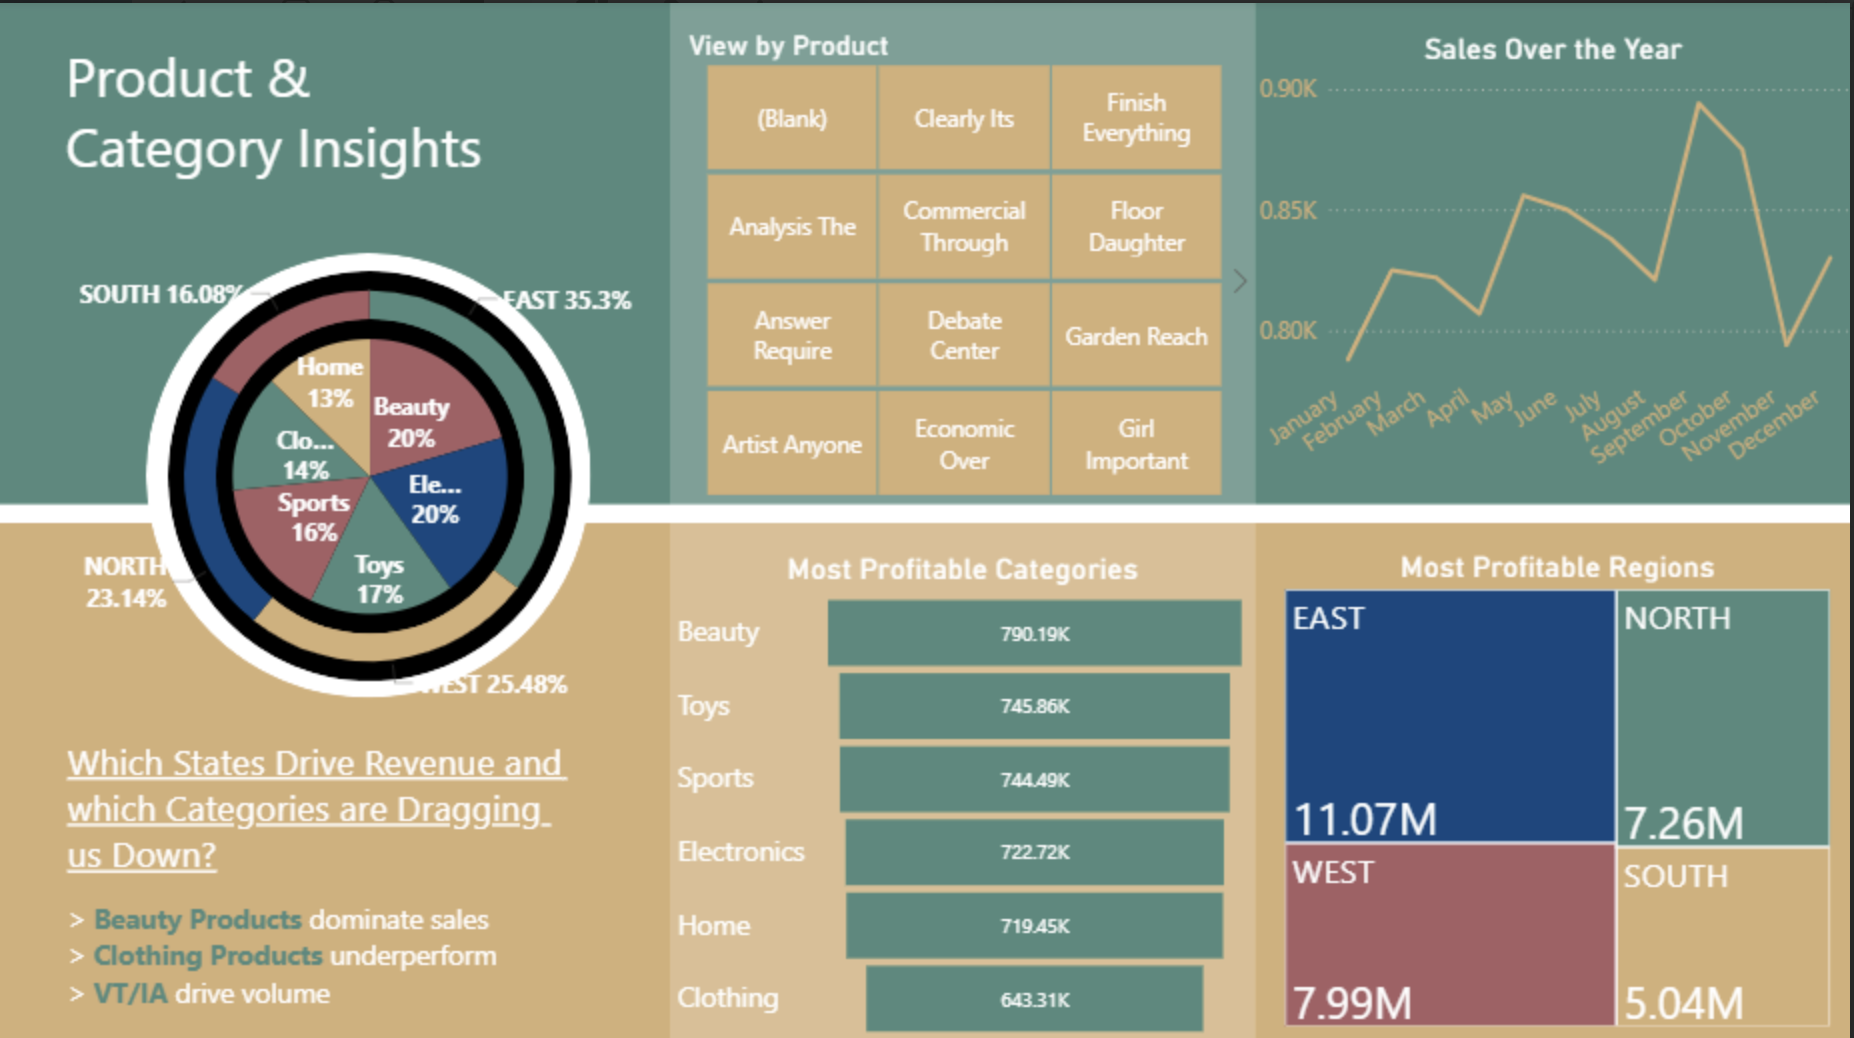

The page's visual inventory and layout, read from the dashboard file:
{"tool":"powerbi","page":{"name":"Page 1","canvas":[1280,720],"ordinal":0},"visuals":[{"type":"shape","box":[0,0,1280,347.7],"z":0},{"type":"shape","box":[0,360,1280.2,360],"z":1000},{"type":"shape","box":[103.1,174.8,306.2,306.2],"z":2000},{"type":"textbox","box":[43.3,21.7,300,156.7],"z":3000},{"type":"textbox","box":[43.7,502.3,354.4,218.4],"z":5000},{"type":"lineChart","title":"Sales Over the Year","fields":{"Category":["orders_silver.order_date.Variation.Date Hierarchy.Year","orders_silver.order_date.Variation.Date Hierarchy.Quarter","orders_silver.order_date.Variation.Date Hierarchy.Month","orders_silver.order_date.Variation.Date Hierarchy.Day"],"Y":["CountNonNull(orders_silver.order_id)"]},"box":[865,21.7,415,323.3],"z":6000},{"type":"funnel","title":"Most Profitable Categories","fields":{"Category":["Ranked_Products_.category"],"Y":["Sum(Ranked_Products_.total_sales)"]},"box":[463.3,360,403.3,360],"z":8000},{"type":"shape","box":[118,186.7,277.8,282.3],"z":8500},{"type":"treemap","title":"Most Profitable Regions","fields":{"Group":["Revenue/ Region.region"],"Values":["Sum(Revenue/ Region.total_revenue)"]},"box":[881.7,378.3,385,333.3],"z":9000},{"type":"slicer","fields":{"Values":["Ranked_Products_.product_name"]},"box":[463.3,0,403.3,348.3],"z":11000},{"type":"donutChart","fields":{"Category":["Revenue/ Region.region"],"Y":["Sum(Revenue/ Region.total_revenue)"]},"box":[50.8,118,412.3,419.8],"z":12500},{"type":"shape","box":[150.9,219.6,212.1,216.6],"z":13000},{"type":"pieChart","fields":{"Category":["dimproducts.category"],"Y":["Sum(factorders.total_amount)"]},"box":[98.6,158.3,316.7,340.6],"z":13500}]}

Visuals, with their boxes in screenshot pixels (x1, y1, x2, y2), scaled from the page's 1280x720 canvas onto the 1854x1038 screenshot:
shape: (x1=0, y1=0, x2=1853, y2=501)
shape: (x1=0, y1=519, x2=1853, y2=1037)
shape: (x1=149, y1=252, x2=593, y2=693)
textbox: (x1=63, y1=31, x2=497, y2=257)
textbox: (x1=63, y1=724, x2=577, y2=1037)
"Sales Over the Year" lineChart: (x1=1253, y1=31, x2=1853, y2=497)
"Most Profitable Categories" funnel: (x1=671, y1=519, x2=1255, y2=1037)
shape: (x1=171, y1=269, x2=573, y2=676)
"Most Profitable Regions" treemap: (x1=1277, y1=545, x2=1835, y2=1026)
slicer - Ranked_Products_.product_name: (x1=671, y1=0, x2=1255, y2=502)
donutChart - Revenue/ Region.region x Sum(Revenue/ Region.total_revenue): (x1=74, y1=170, x2=671, y2=775)
shape: (x1=219, y1=317, x2=526, y2=629)
pieChart - dimproducts.category x Sum(factorders.total_amount): (x1=143, y1=228, x2=602, y2=719)
